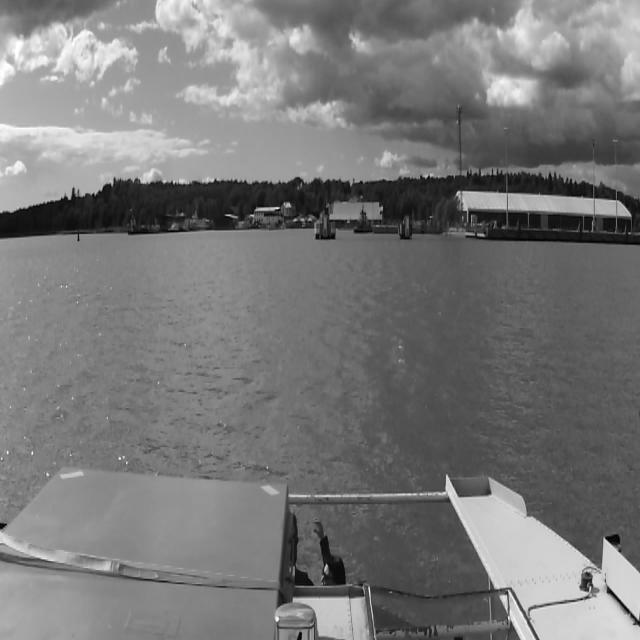buoy: (76, 228, 80, 242)
ship: (353, 202, 372, 232)
